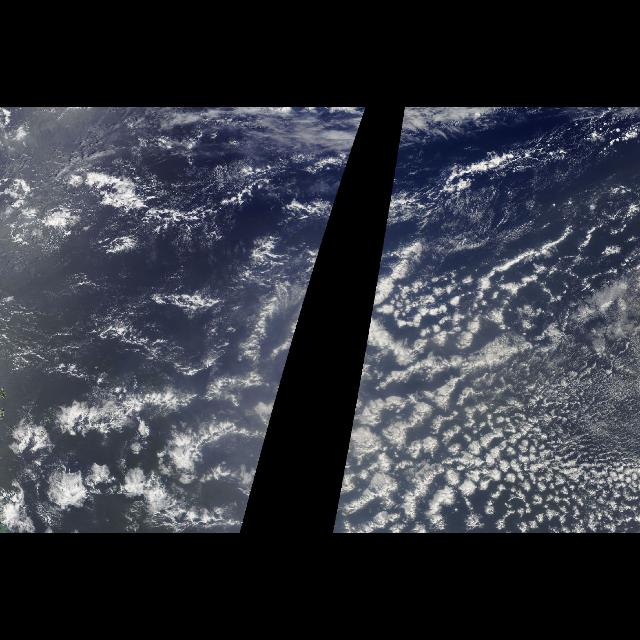Flower: (370, 354, 638, 528)
Gravel: (404, 180, 632, 390)
Sugar: (534, 291, 640, 514), (2, 271, 152, 373)
